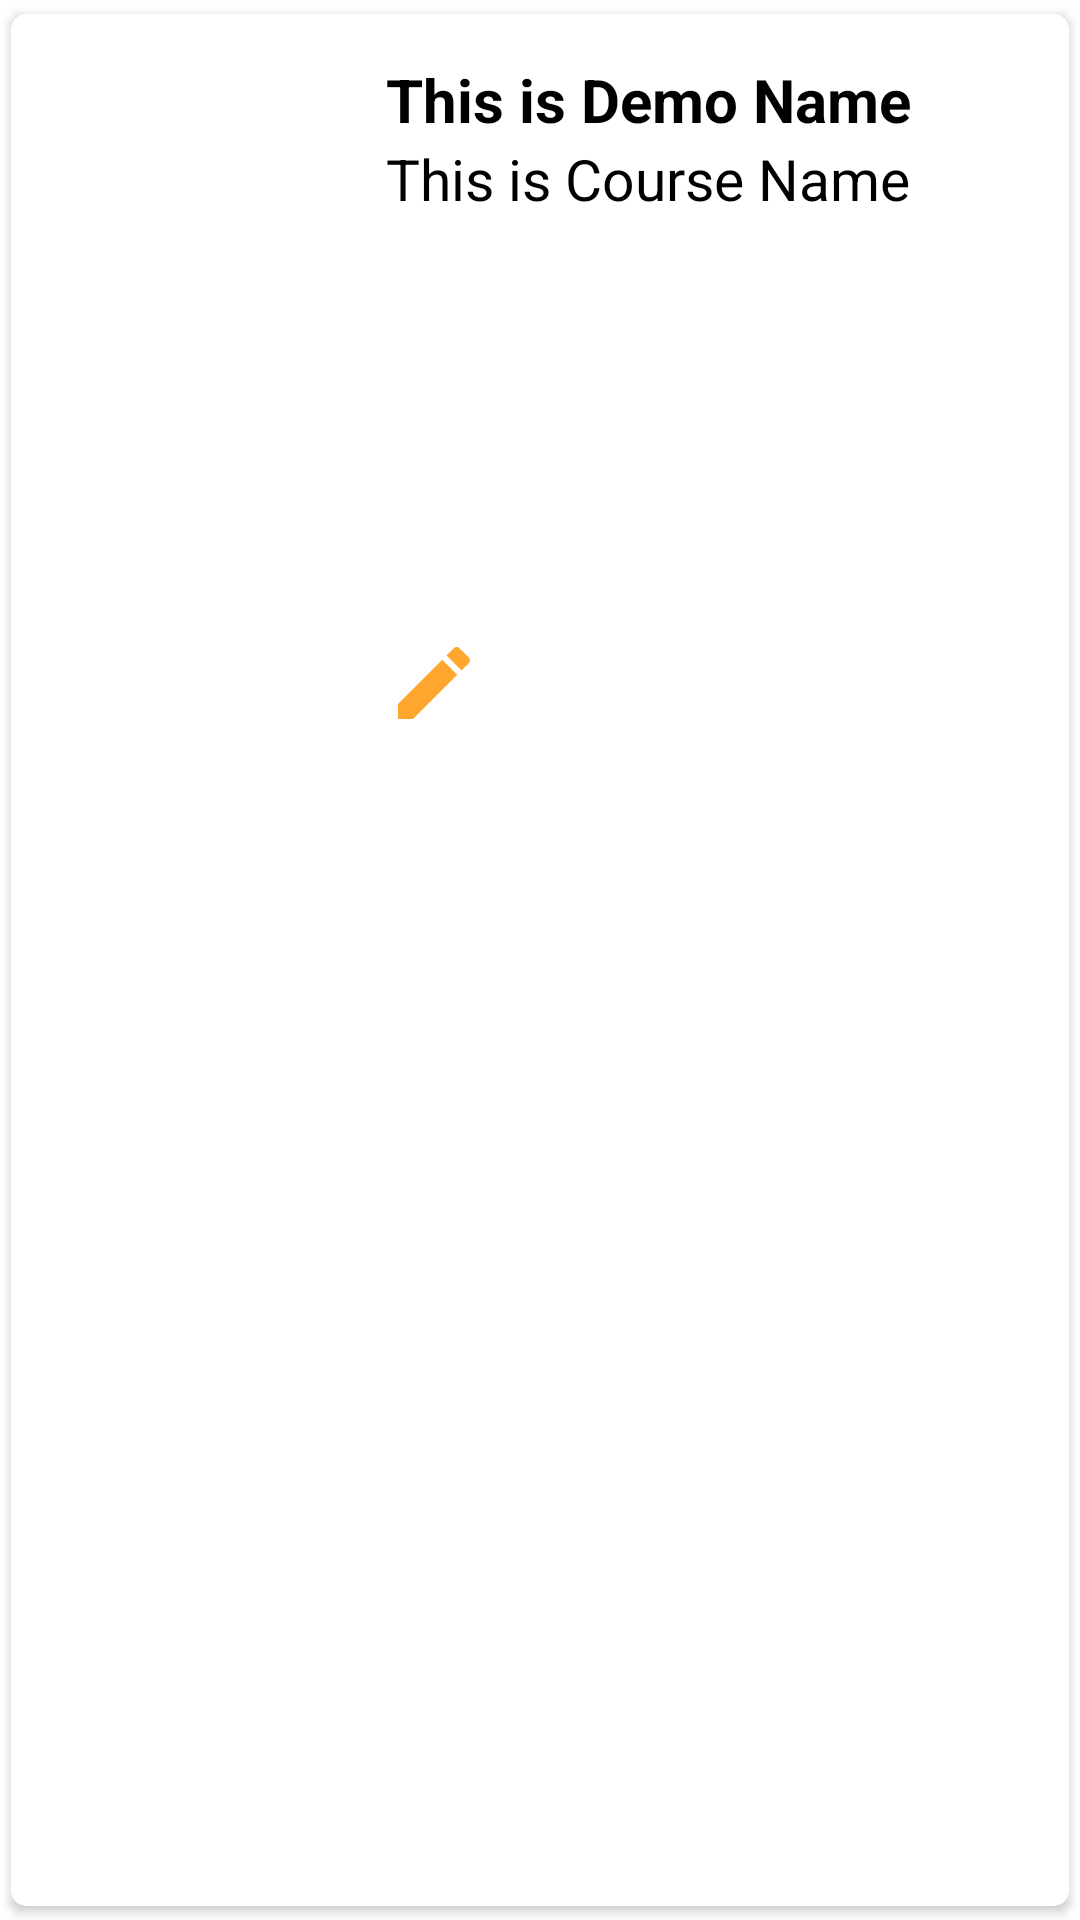

Icons on this 1080px x 1920px Android screen, each with its box as detection(x1, y1, x2, y2):
edit: detection(398, 647, 470, 719)
